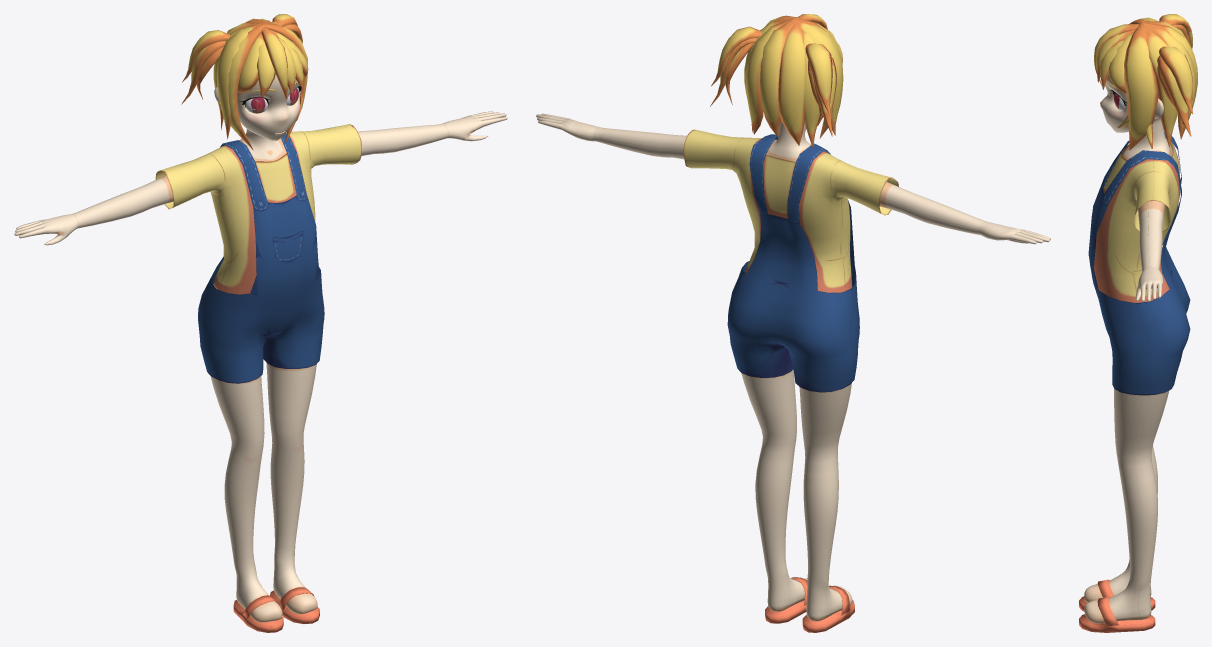
The model's file is character texture.fbx.
3 views of the same model, side by side, from view 1: azimuth 30°, elevation 25°; view 2: azimuth 150°, elevation 25°; view 3: azimuth 270°, elevation 25° (orthographic). The views are drawn at different scales.
Visible parts, largest first — view 1: Cube; view 2: Cube; view 3: Cube.
Part boxes in pixels (<box>): Cube: <box>14,14,507,632</box>; Cube: <box>536,14,1050,632</box>; Cube: <box>1079,14,1197,632</box>.
Size of the model in its own units: 123 by 138 by 25.11.
Materials: 7 (6 with a texture image).
